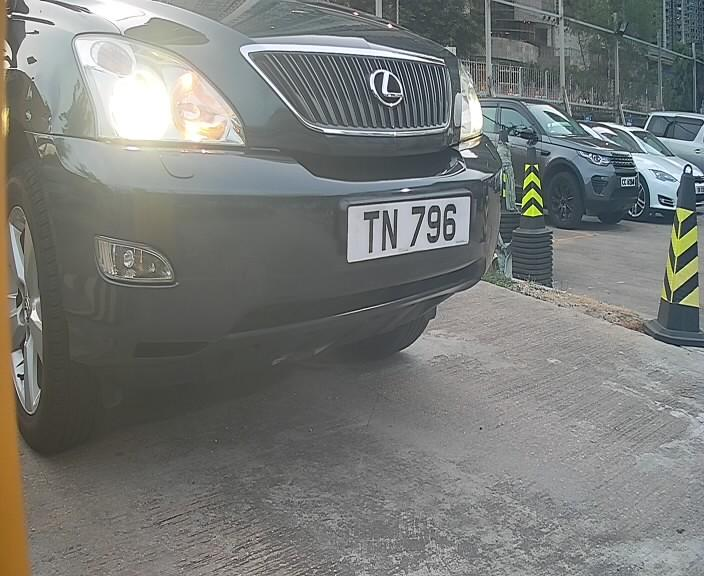License Plate: (334, 181, 481, 268)
